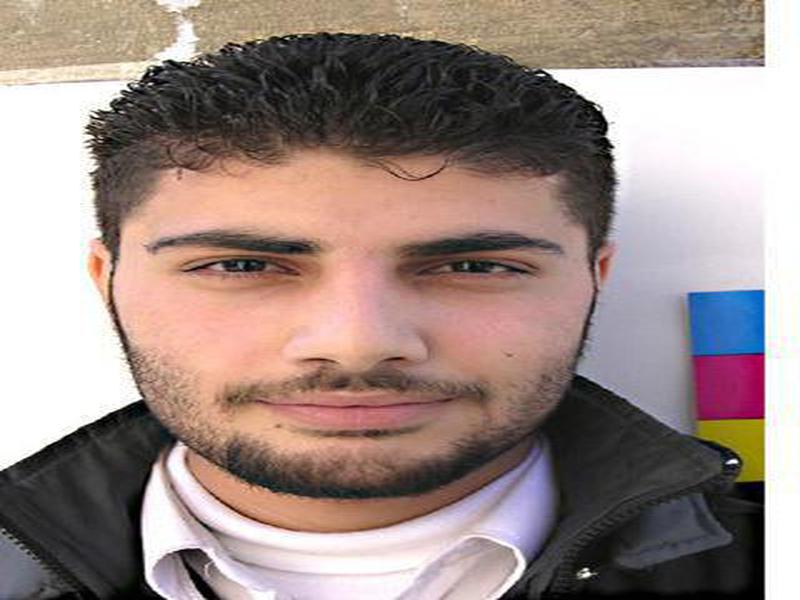without_mask: (112, 174, 587, 504)
